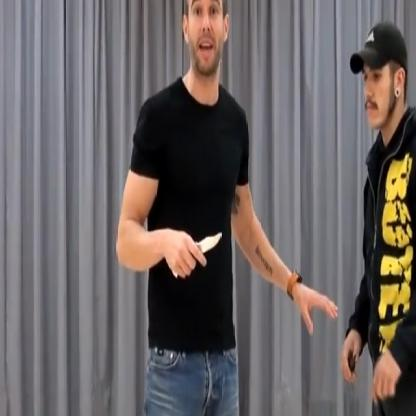knife: (170, 226, 223, 278)
